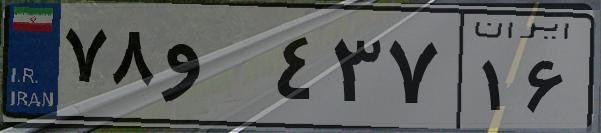1: (475, 38, 525, 113)
3: (330, 28, 385, 110)
4: (270, 28, 330, 110)
6: (525, 38, 570, 115)
7: (385, 28, 445, 110), (57, 26, 110, 100)
8: (110, 28, 158, 98)
و: (158, 20, 270, 120)
